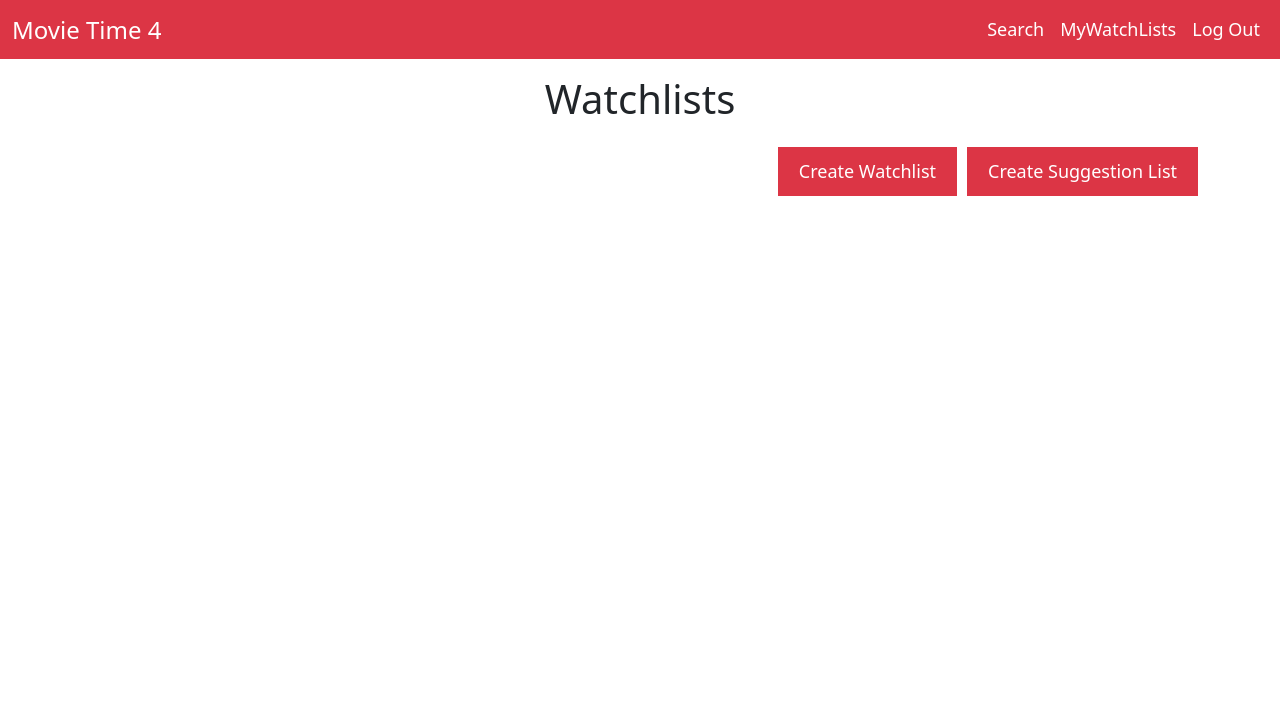
Test: Watchlist page › should show create suggestion modal when create suggestion button is clicked
Click the button with id "CreateSuggestionlistButton" at (1082, 172), box 967,147 -> 1198,196
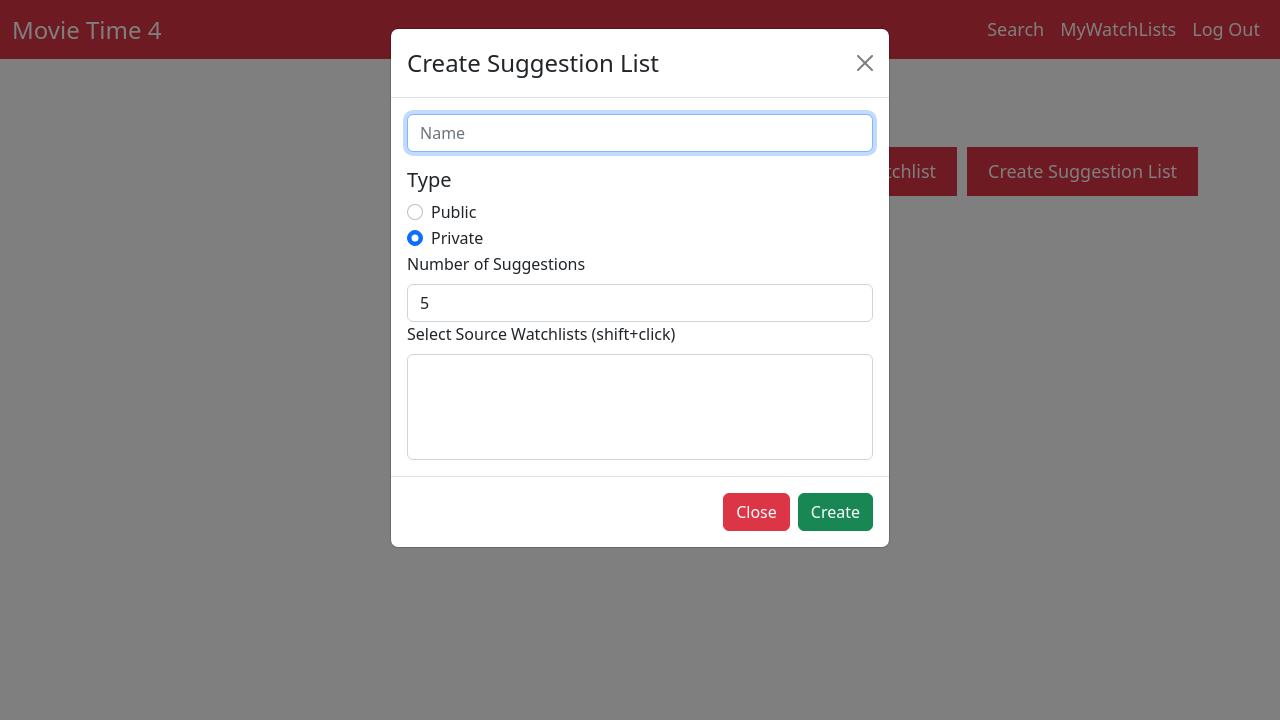
Expected: the text "Create Suggestion List" is shown, 407,45 -> 659,81
